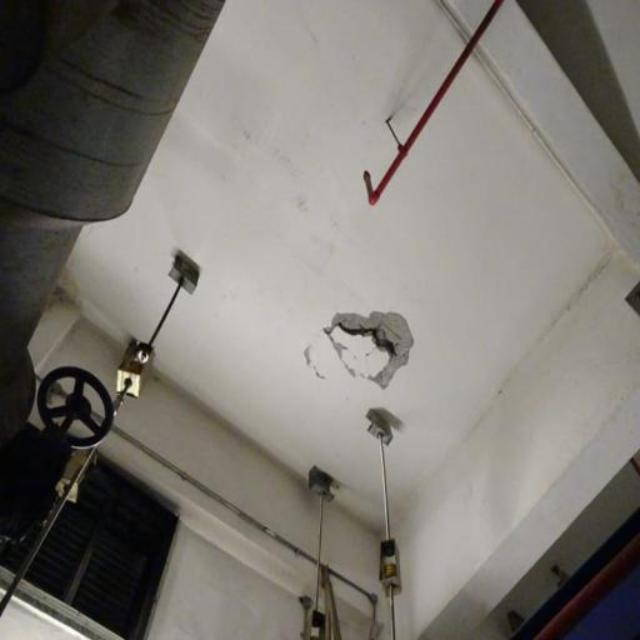D0w0: (326, 310, 417, 385), (366, 410, 401, 444)
